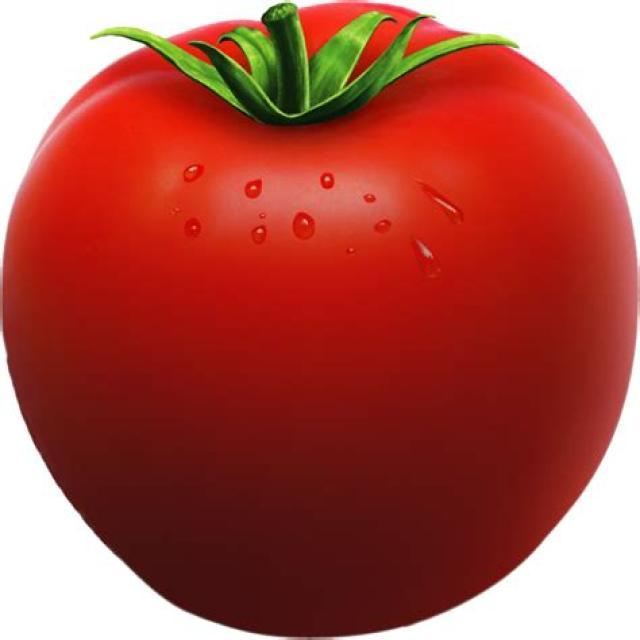Tomato: (0, 1, 640, 640)
